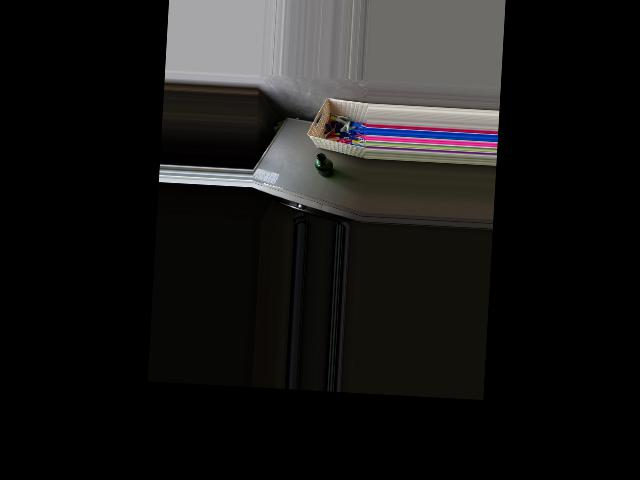beer: (315, 153, 334, 178)
